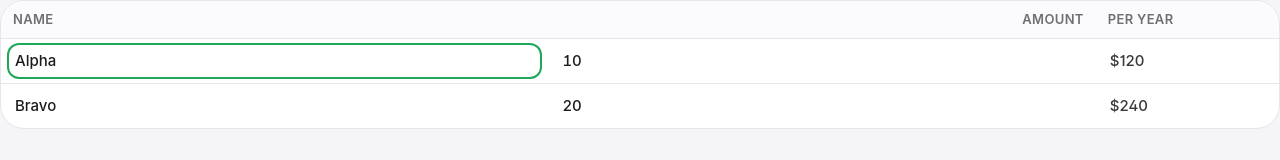
Scenario: DataGrid keyboard and totals › Escape reverts an in-progress edit without committing
Replace the text in the field showing "Alpha" in the row of "$120" with "Scratch": (275, 61) x1=7 y1=43 x2=542 y2=79
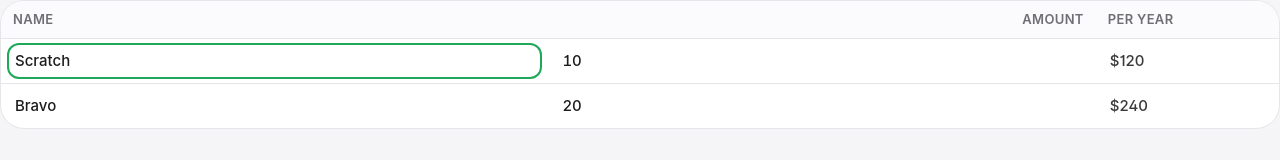
Press Escape in the field showing "Alpha" in the row of "$120", box x1=7 y1=43 x2=542 y2=79
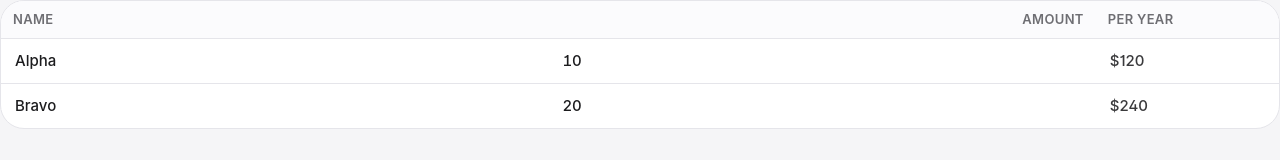
Result: the field showing "Alpha" in the row of "$120" holds "Alpha" at x1=7 y1=43 x2=542 y2=79
